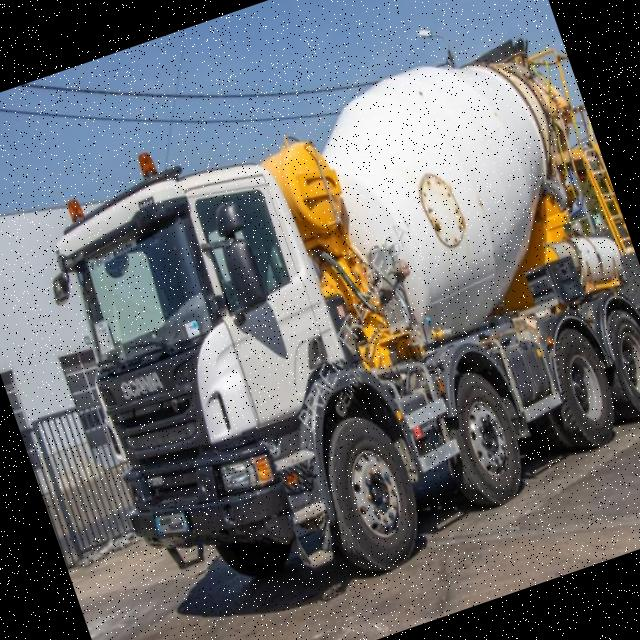Mixer Truck: (20, 19, 640, 640)
